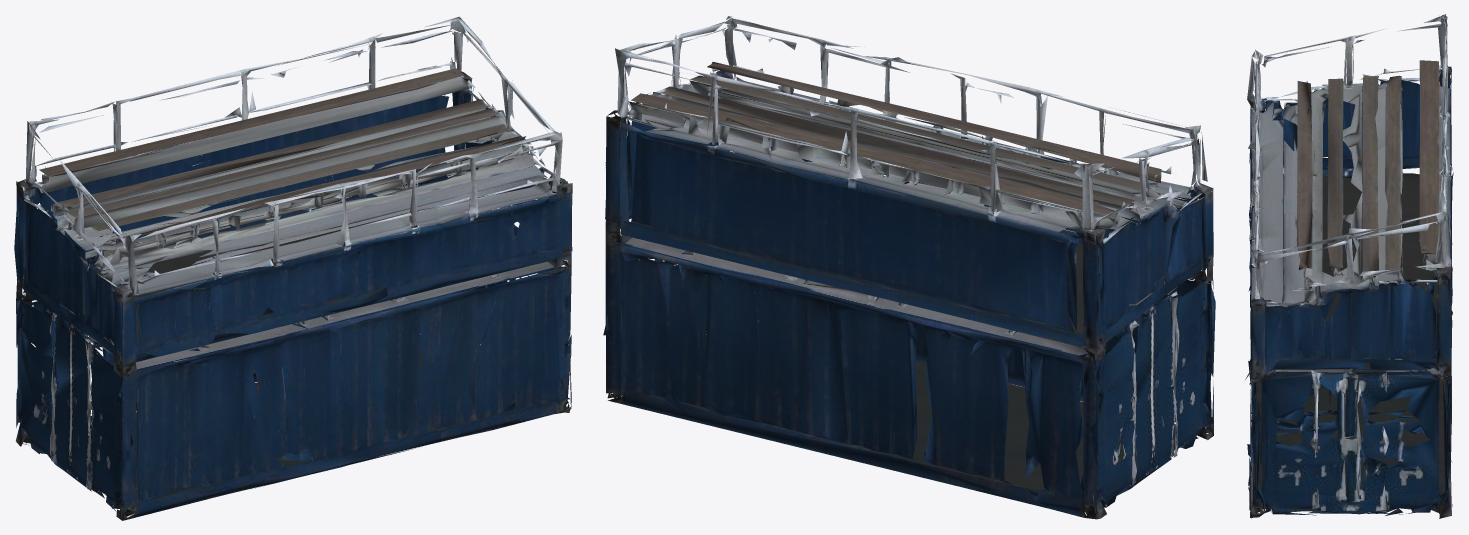
File: drift_zuschauer_container.glb
The picture shows the model from 3 angles, left to right: view 1: azimuth 30°, elevation 25°; view 2: azimuth 150°, elevation 25°; view 3: azimuth 270°, elevation 25°; orthographic projection. The views are drawn at different scales.
Parts seen in each view (by area): view 1: Prop; view 2: Prop; view 3: Prop.
Boxes of the visible parts, x1=… form: Prop: x1=14, y1=16, x2=572, y2=520; Prop: x1=603, y1=16, x2=1215, y2=519; Prop: x1=1245, y1=14, x2=1453, y2=518.
Bounding box in the file's own units: 1.49 × 1.02 × 0.6293.
1 material, 1 textured.
